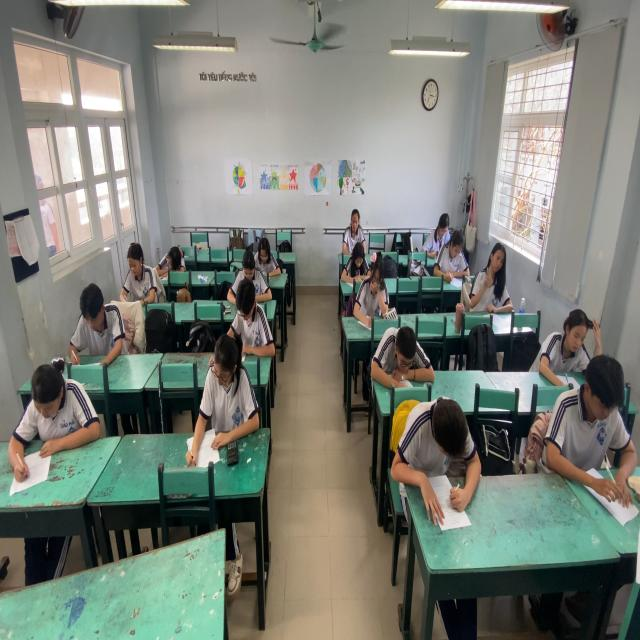not_cheating: (546, 352, 633, 462), (15, 359, 94, 462), (196, 333, 260, 428), (402, 400, 472, 472), (526, 314, 598, 375), (66, 282, 122, 352), (363, 317, 433, 372), (233, 282, 273, 358), (118, 238, 155, 306), (472, 244, 506, 306), (230, 245, 268, 296), (439, 227, 470, 286), (363, 252, 392, 310), (151, 238, 184, 276), (250, 237, 279, 279), (339, 209, 369, 248), (344, 241, 369, 282), (427, 210, 456, 245)
